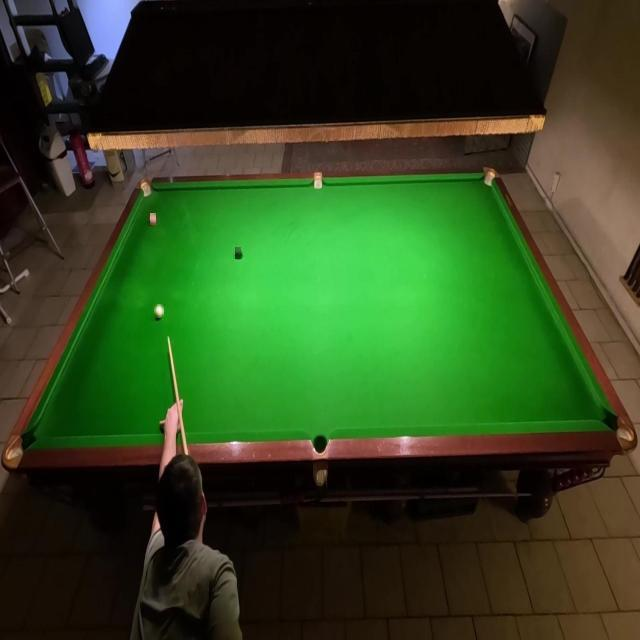Ball: (154, 304, 164, 318), (150, 213, 156, 226), (236, 247, 242, 259)
